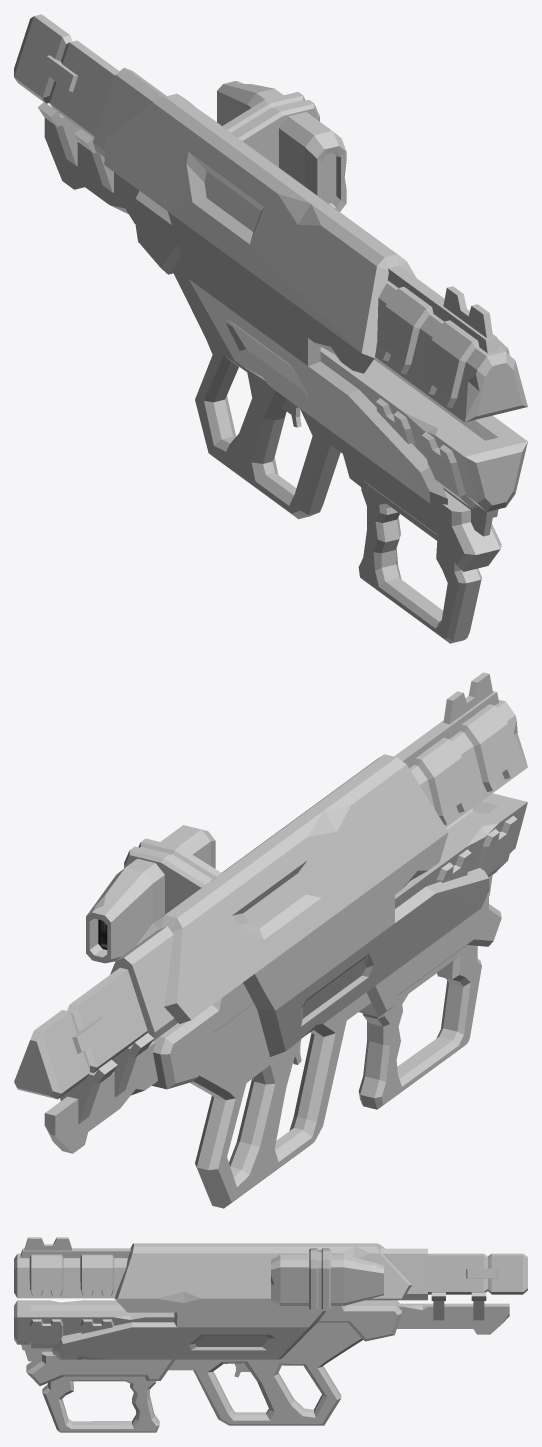
Rendered from SM_Wep_Mining_Laser_01.fbx.
3 views of the same model, one above another, from view 1: azimuth 30°, elevation 25°; view 2: azimuth 150°, elevation 25°; view 3: azimuth 270°, elevation 25° (orthographic). The views are drawn at different scales.
Parts seen in each view (by area): view 1: SM_Wep_Mining_Laser_01; view 2: SM_Wep_Mining_Laser_01; view 3: SM_Wep_Mining_Laser_01.
Boxes of the visible parts, box(x1,y1,x2,y2) form: SM_Wep_Mining_Laser_01: box(14, 14, 527, 643); SM_Wep_Mining_Laser_01: box(14, 672, 527, 1208); SM_Wep_Mining_Laser_01: box(14, 1237, 527, 1432).
Size of the model in its own units: 23.22 by 58.45 by 140.
